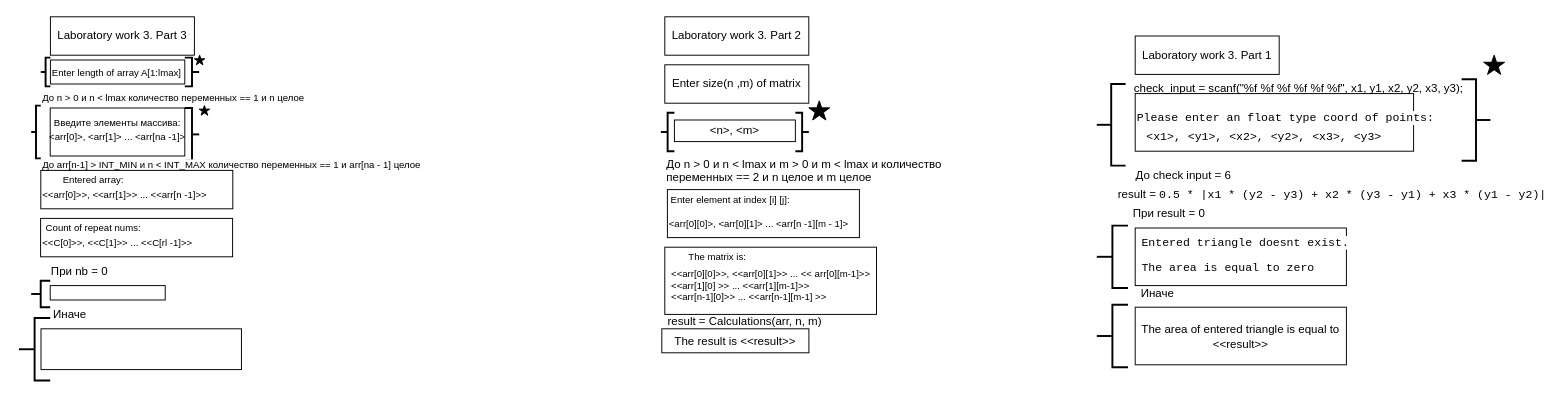
The diagram is 1562 pixels wide and 398 high, and some of its shapes have lost their labels. The centre of each missing label's shape, as x and y in pixels:
"Modified array: <<B[0]>>, <<B[1]>>, ..., <<B[nb - 1]>>" goes at point 140,349.
"The array is empty" goes at point 107,292.
